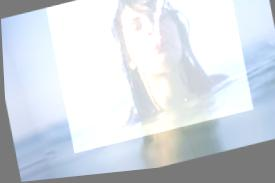spitting: (45, 0, 255, 157)
